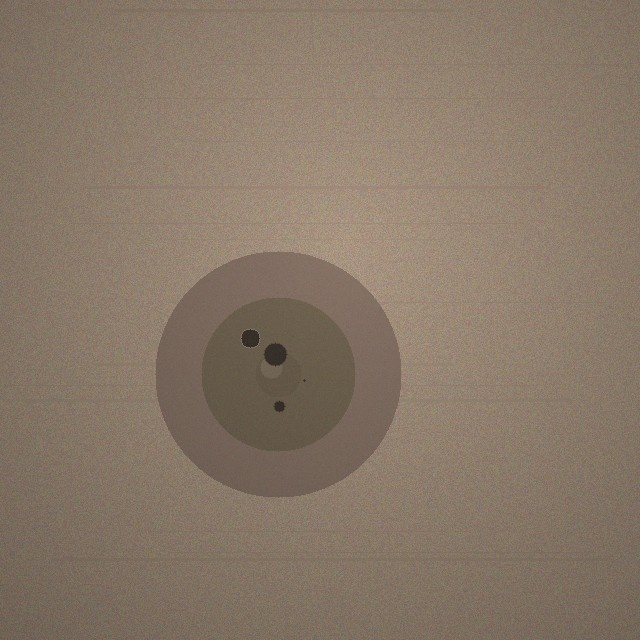shrinkage: (155, 251, 401, 497)
